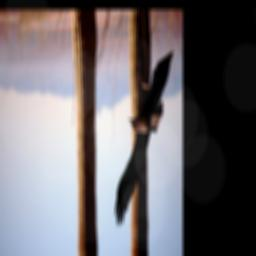Crow: (114, 48, 174, 229)
